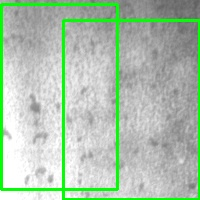pitted_surface: (63, 20, 199, 199), (1, 4, 117, 189)
